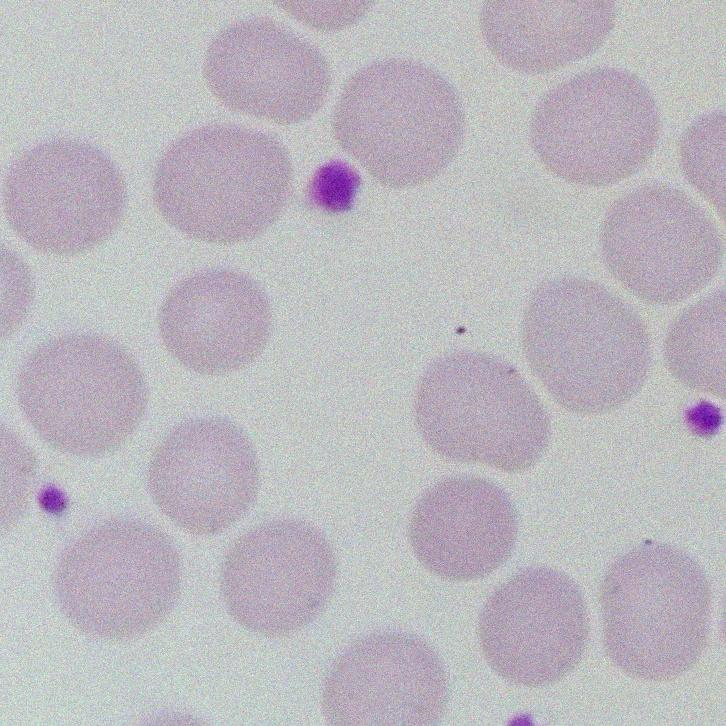Uninfected: (329, 62, 468, 186), (523, 279, 650, 413), (155, 123, 292, 242), (415, 352, 550, 470), (18, 331, 146, 455), (54, 519, 181, 642), (601, 542, 710, 678), (532, 69, 658, 185), (4, 136, 127, 254), (600, 183, 719, 301), (203, 19, 331, 122), (221, 522, 336, 635), (148, 418, 260, 534), (479, 565, 588, 684), (159, 268, 272, 374), (323, 632, 449, 723), (409, 479, 521, 580), (483, 0, 614, 74), (664, 288, 724, 399)
